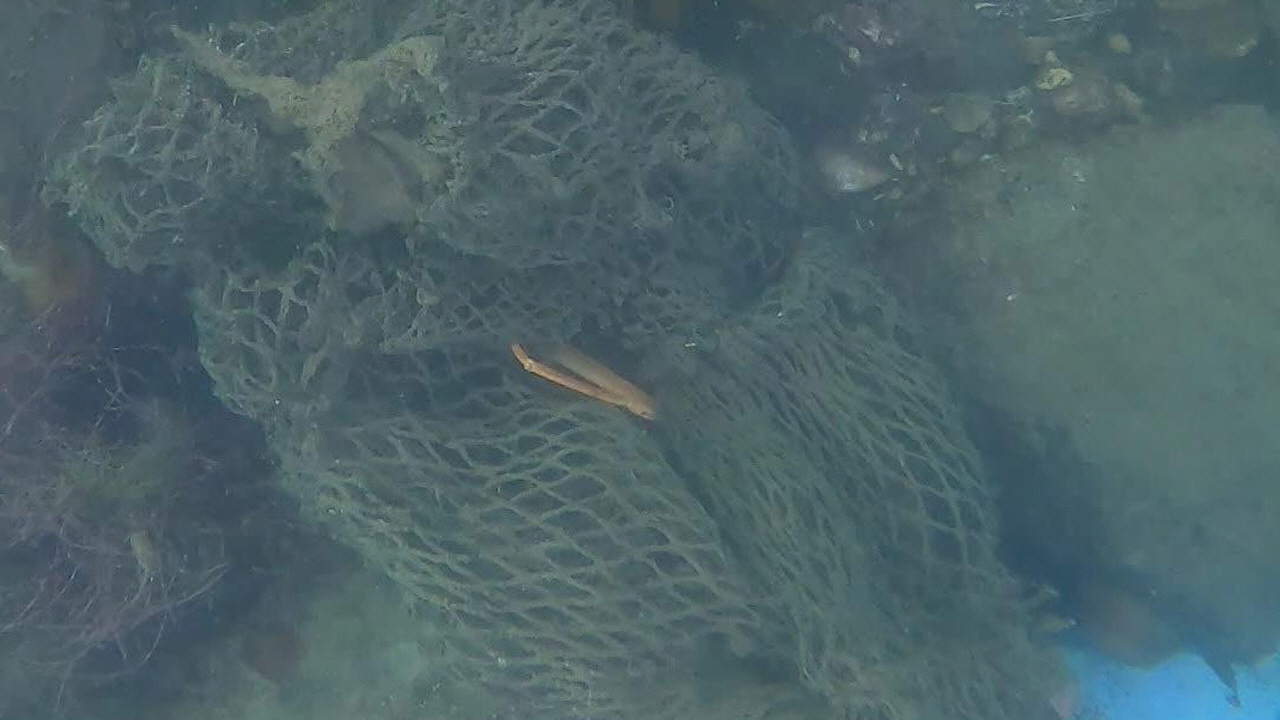fish net: (55, 0, 1054, 720)
